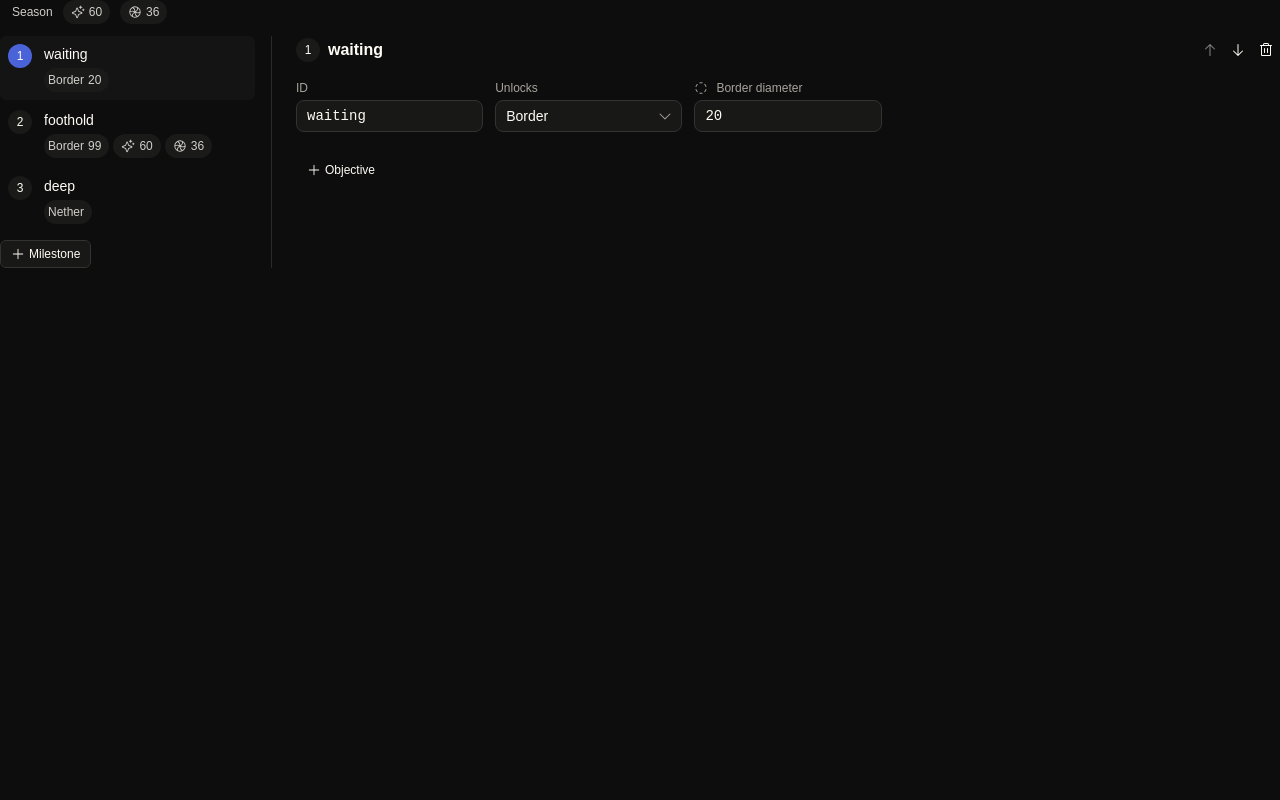
Test: MilestonesEditor › shows beside an objective's fields the icons its pills use
The image size is (1280, 800).
Click the button "2 foothold Border 99 60 36". click: [128, 134]
box: [0,102,255,166]
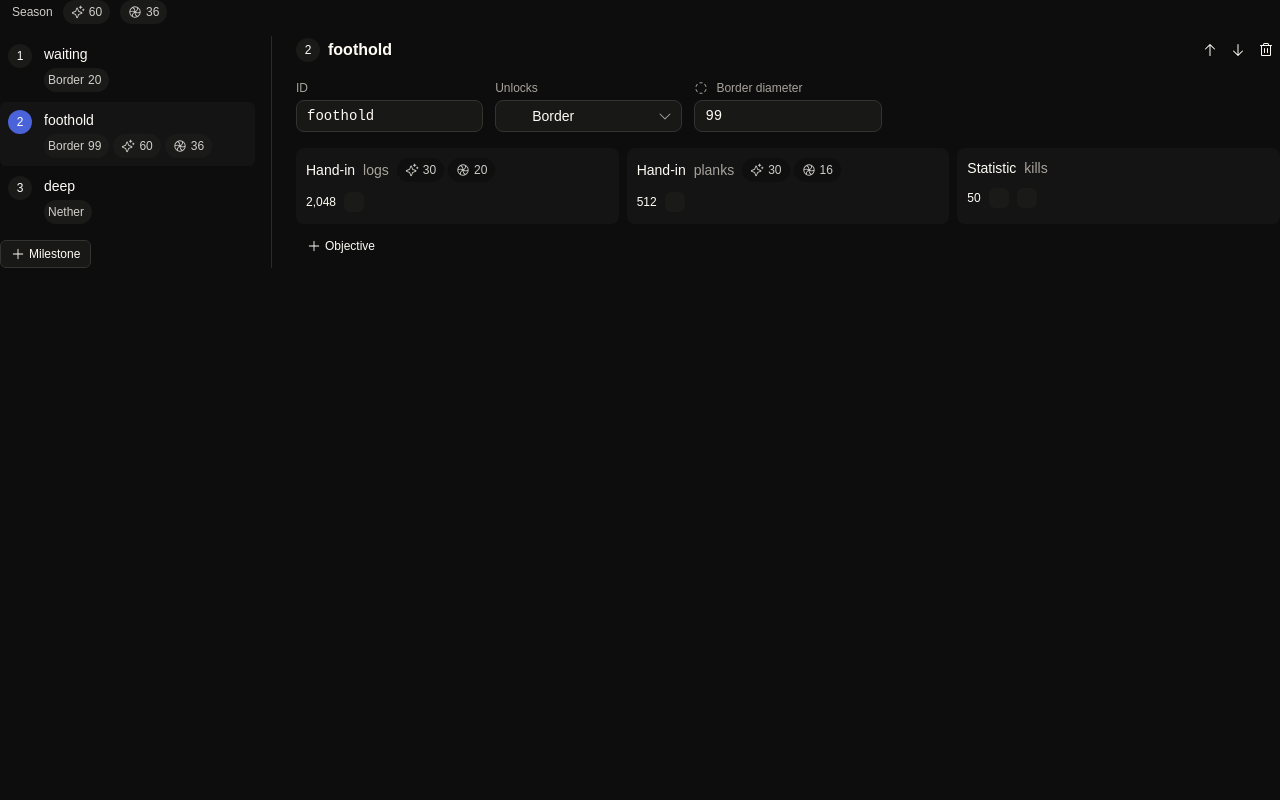
Click the button "Hand-in logs 30 20 2,048". click: [331, 170]
box: [296,148,619,224]
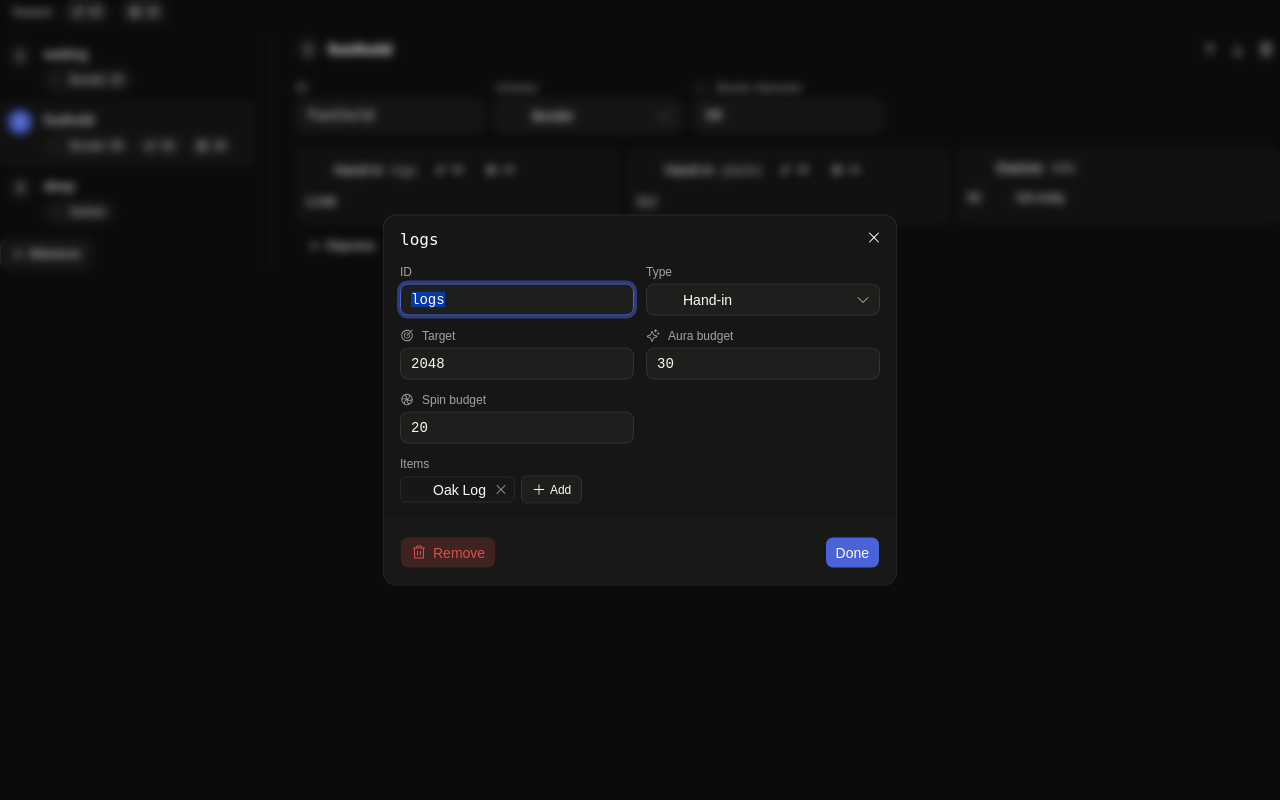
Check: the icon next to "Aura budget" is shown, box [646,328,660,342]
Check: the icon next to "Spin budget" is shown, box [400,392,414,406]
Check: the icon next to "Target" is shown, box [400,328,414,342]
